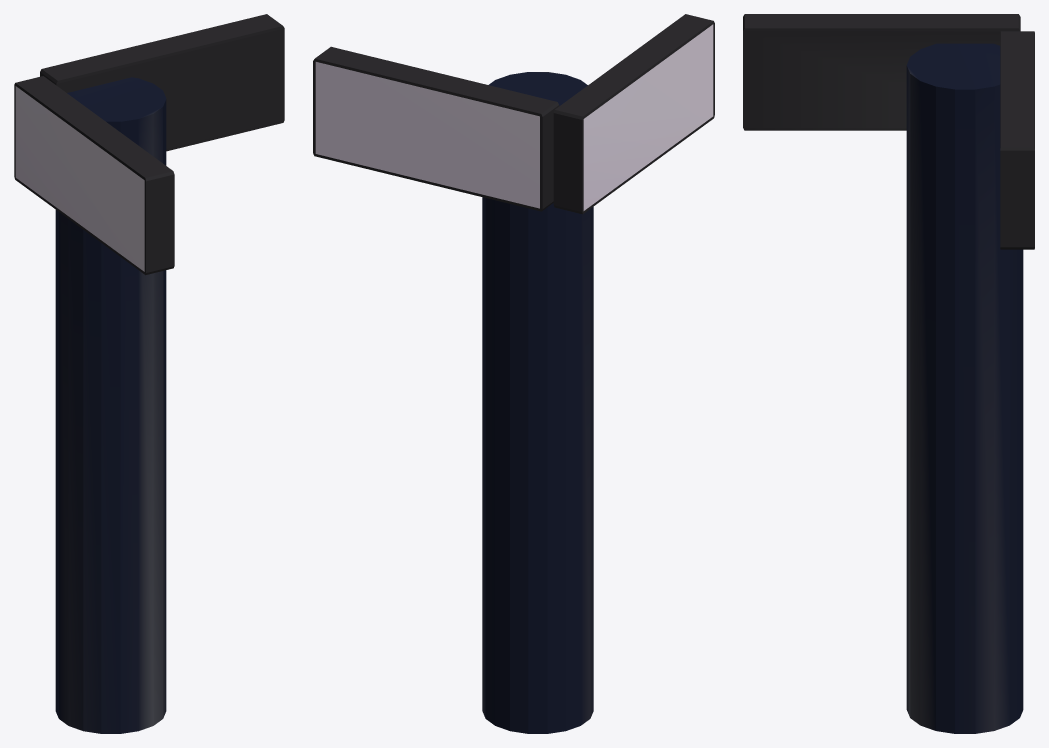
Rendered from placa_rua.fbx.
3 views of the same model, side by side, from view 1: azimuth 30°, elevation 25°; view 2: azimuth 150°, elevation 25°; view 3: azimuth 270°, elevation 25° (orthographic). The views are drawn at different scales.
Visible parts, largest first — view 1: placa_rua; view 2: placa_rua; view 3: placa_rua.
Part boxes in pixels (left/top/right/bottom): placa_rua: left=14, top=14, right=284, bottom=733; placa_rua: left=313, top=14, right=714, bottom=733; placa_rua: left=743, top=14, right=1034, bottom=733.
Size of the model in its own units: 81.54 by 187 by 75.06.
